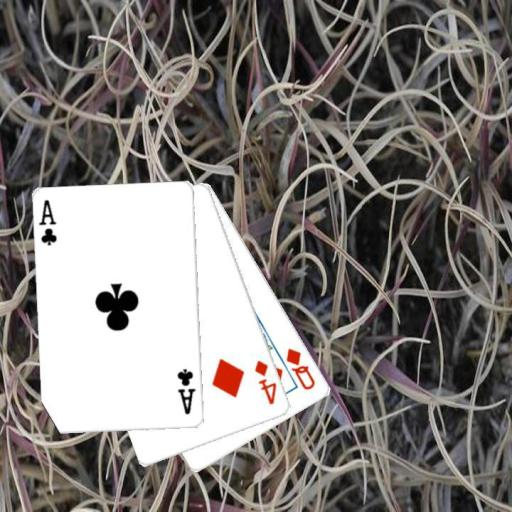4D: (252, 357, 279, 407)
AC: (174, 366, 198, 416), (36, 197, 59, 247)
QD: (283, 345, 317, 392)
